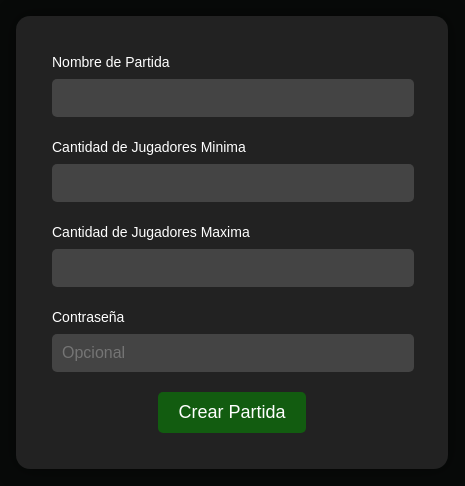
Test: CreateGame › should show an error when the input is invalid
Type "Juego 123" into the field named "lobby_name".
click(233, 98); type("Juego 123")  # box [52,79,414,117]
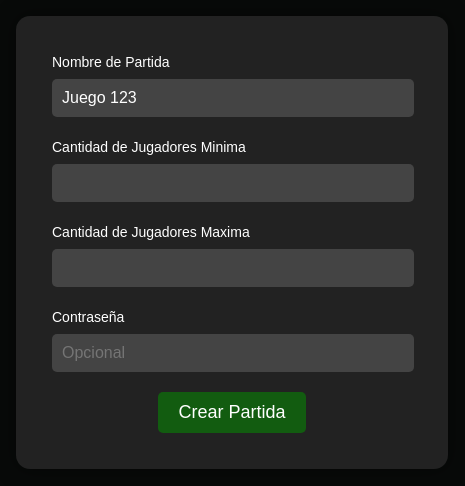
Type "2" into the number field named "min_players".
click(233, 183); type("2")  # box [52,164,414,202]
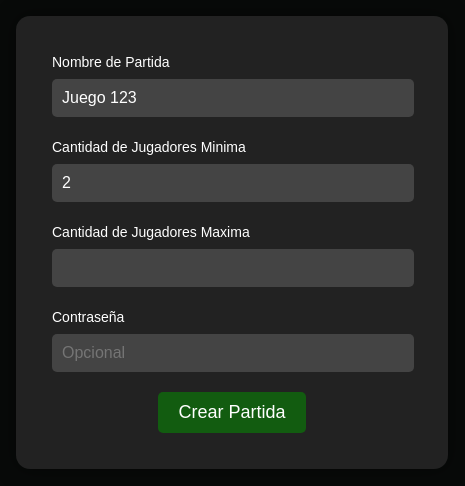
Type "15" into the number field named "max_players".
click(233, 268); type("15")  # box [52,249,414,287]
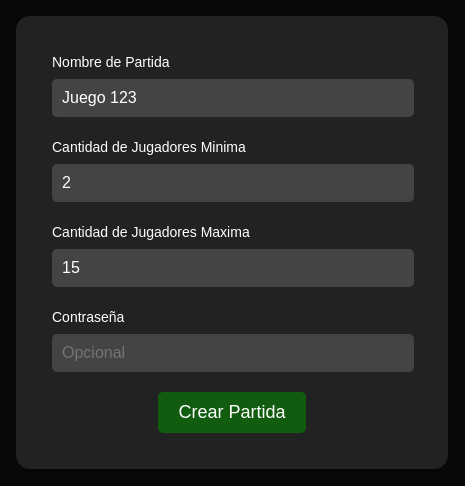
Type "123" into the password field named "password".
click(233, 353); type("123")  # box [52,334,414,372]
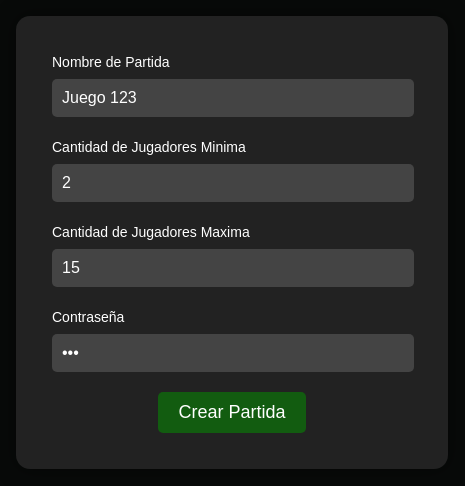
Click the button.
click(232, 412)  # box [158,392,306,433]
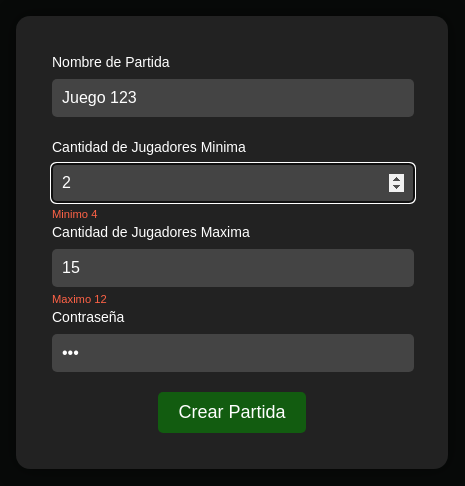
Expected: the text "Minimo 4" is shown, [52,208,97,220]
Expected: the text "Maximo 12" is shown, [52,293,107,305]
